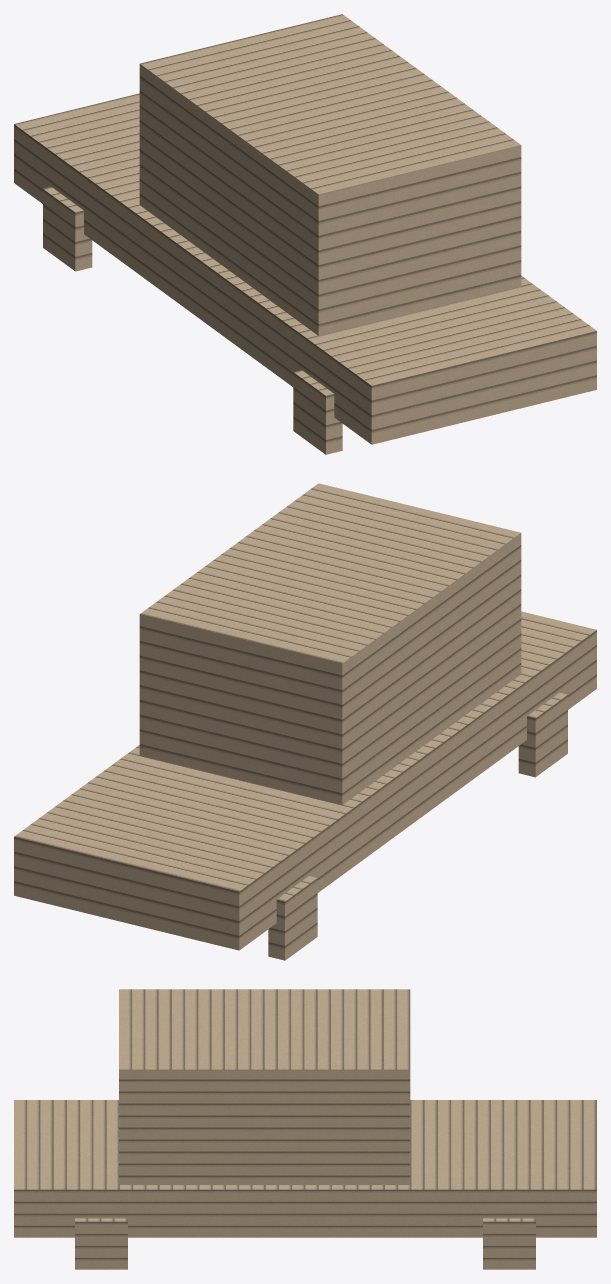
The model's file is vehicle_ambulance.glb.
3 views of the same model, one above another, from view 1: azimuth 30°, elevation 25°; view 2: azimuth 150°, elevation 25°; view 3: azimuth 270°, elevation 25° (orthographic). The views are drawn at different scales.
Parts seen in each view (by area): view 1: vehicle_ambulance-col; view 2: vehicle_ambulance-col; view 3: vehicle_ambulance-col.
Boxes of the visible parts, x1=… form: vehicle_ambulance-col: x1=14, y1=14, x2=596, y2=454; vehicle_ambulance-col: x1=14, y1=483, x2=596, y2=960; vehicle_ambulance-col: x1=14, y1=989, x2=596, y2=1269.
Size of the model in its own units: 2.15 by 2 by 5.5.
1 material, 1 textured.
